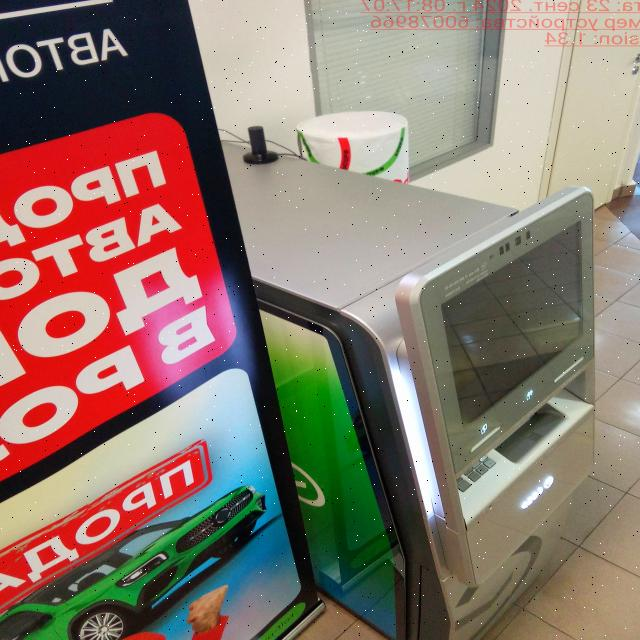bank: (221, 141, 596, 640)
